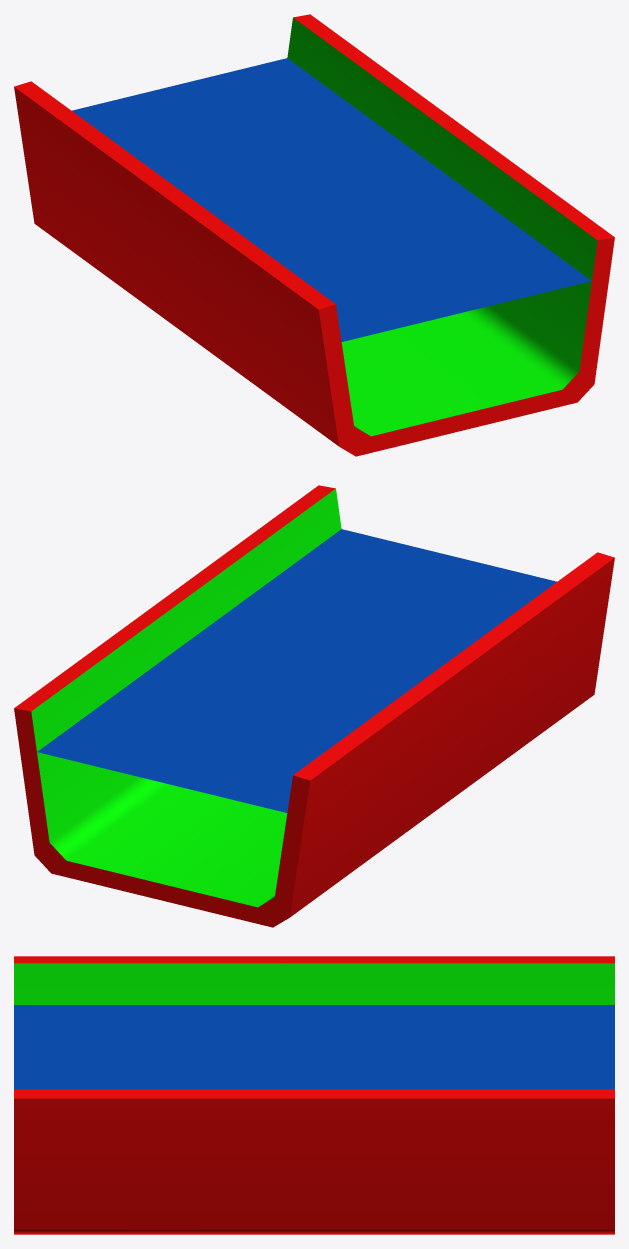
File: log_flume_trackmockup_1.fbx
The picture shows the model from 3 angles, top to bottom: view 1: azimuth 30°, elevation 25°; view 2: azimuth 150°, elevation 25°; view 3: azimuth 270°, elevation 25°; orthographic projection.
Visible parts, largest first — view 1: logflume_mockup1; view 2: logflume_mockup1; view 3: logflume_mockup1.
Part boxes in pixels (x1,y1,x2,y2): logflume_mockup1: (14,14,614,456); logflume_mockup1: (14,485,614,927); logflume_mockup1: (14,956,614,1234).
Bounding box in the file's own units: 0.5615 × 0.2848 × 1.
